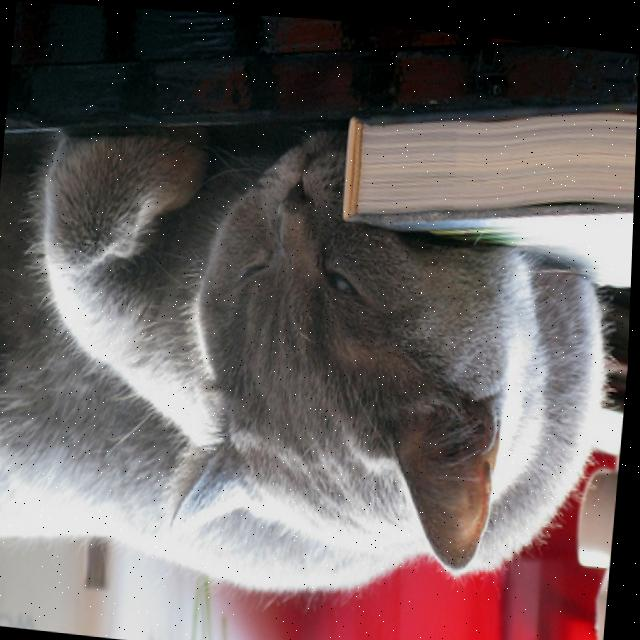British Shorthair: (0, 87, 630, 627)
